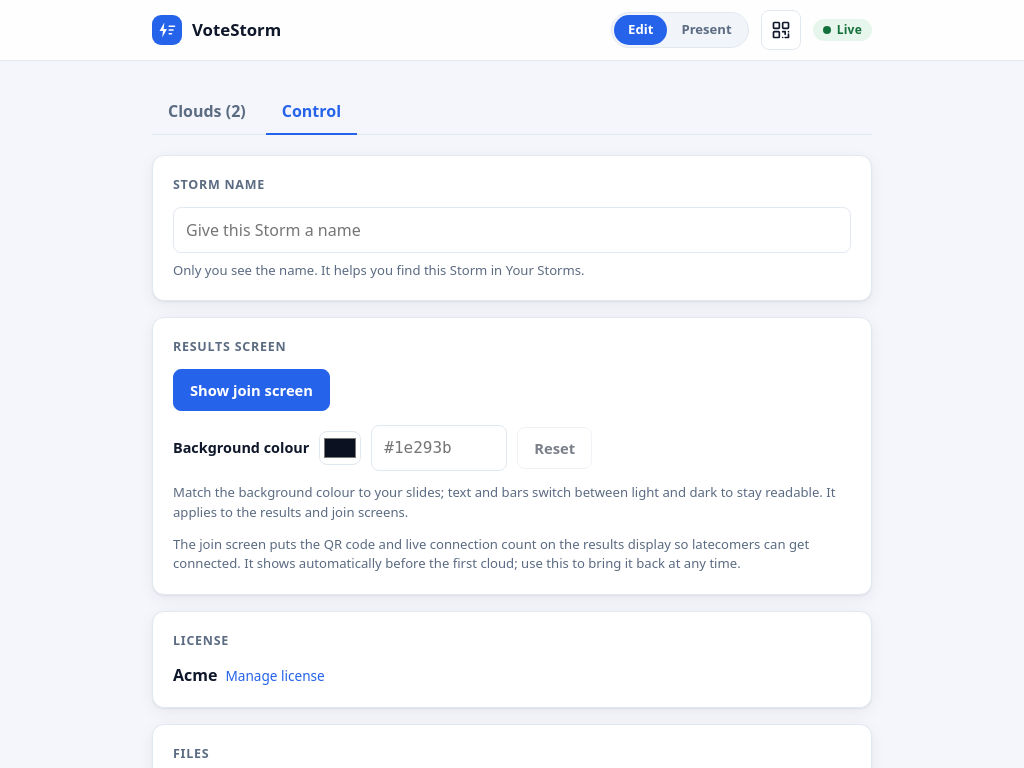
Scenario: PresenterView › hides the page header only in Present mode, and Exit returns to the editor on the Clouds tab
Expected: the header with class "app-header" is shown, [0, 0, 1023, 61]
Click the button "Present" at (707, 30), box [667, 15, 746, 45]
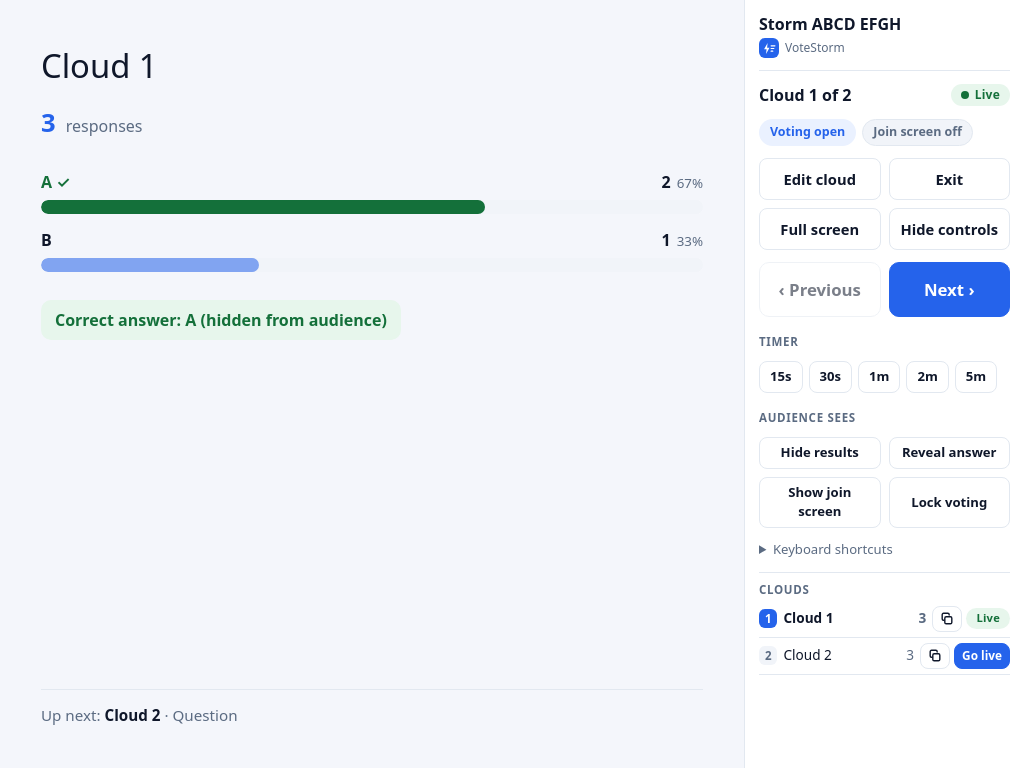
Click the button "Exit" at (949, 179), box [888, 158, 1010, 200]
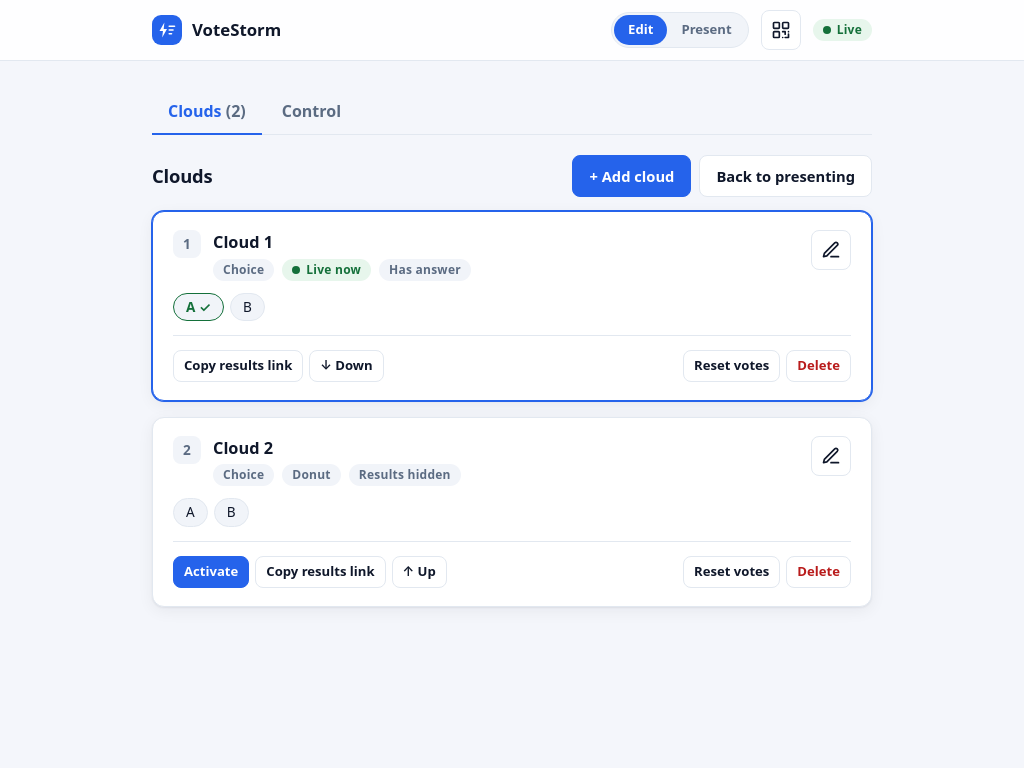
Expected: the button "Edit" is shown, [614, 15, 667, 45]
Now the header with class "app-header" is shown, box [0, 0, 1023, 61]
Now the tab with class "tab" shows "Clouds", box [152, 89, 262, 135]
